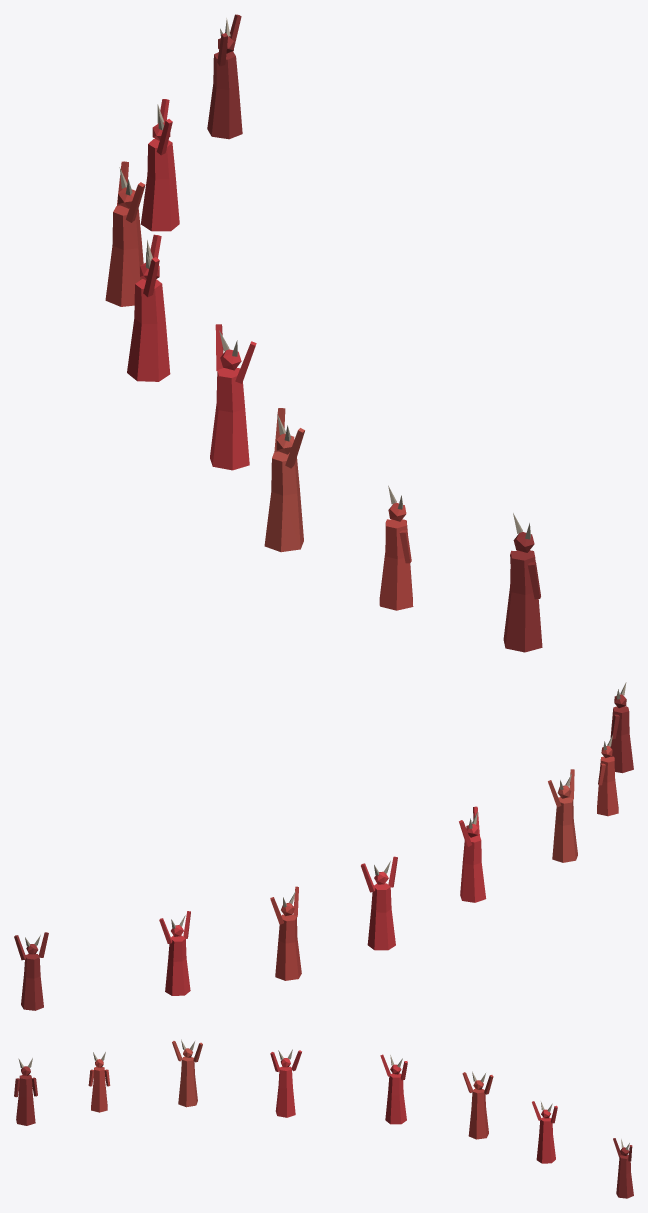
Rendered from Stands_4_0_2_Ice.obj.
The picture shows the model from 3 angles, top to bottom: view 1: azimuth 30°, elevation 25°; view 2: azimuth 150°, elevation 25°; view 3: azimuth 270°, elevation 25°; orthographic projection. The views are drawn at different scales.
Visible parts, largest first — view 1: Stands_4_0_2_Ice; view 2: Stands_4_0_2_Ice; view 3: Stands_4_0_2_Ice.
Boxes of the visible parts, x1,y1,x2,y2 form: Stands_4_0_2_Ice: (105,14,542,652); Stands_4_0_2_Ice: (14,682,633,1010); Stands_4_0_2_Ice: (14,1039,633,1198).
Bounding box in the file's own units: 12.93 × 3.8 × 33.28.
1 material, 1 textured.
